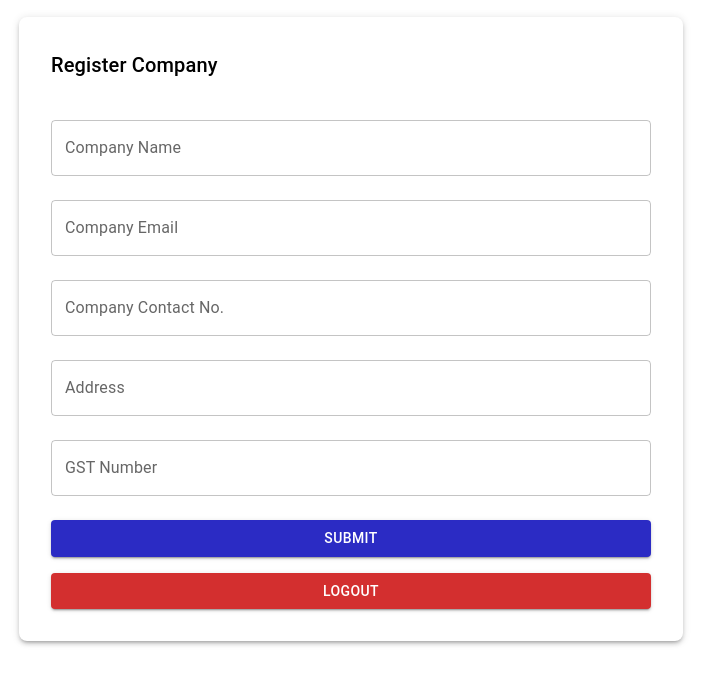
it: CompanyRegisterPage › displays validation errors for empty fields
Step 1. Click the button "Submit" → click(351, 538), box [51,520,651,556]
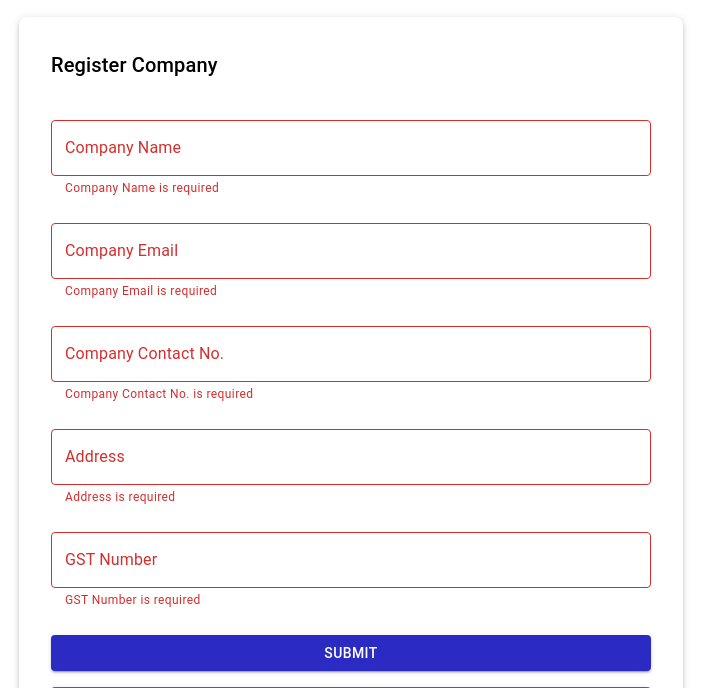
Expected: the text "Company Name is required" is shown, [65,181,219,195]
Expected: the text "Company Email is required" is shown, [65,284,217,298]
Expected: the text "Company Contact No. is required" is shown, [65,387,253,401]
